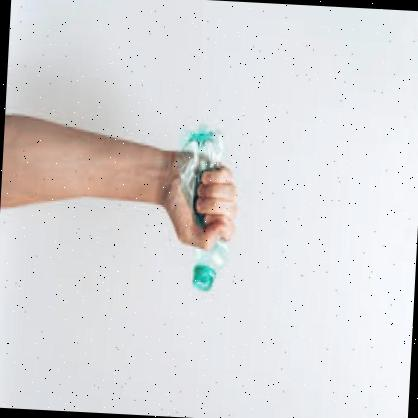bottle: (160, 117, 248, 299)
